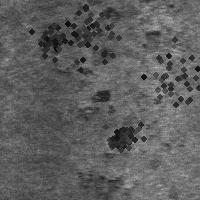rolled-in_scale: (38, 0, 136, 81), (129, 29, 200, 121), (73, 147, 141, 199), (27, 19, 69, 61), (100, 116, 140, 156)
